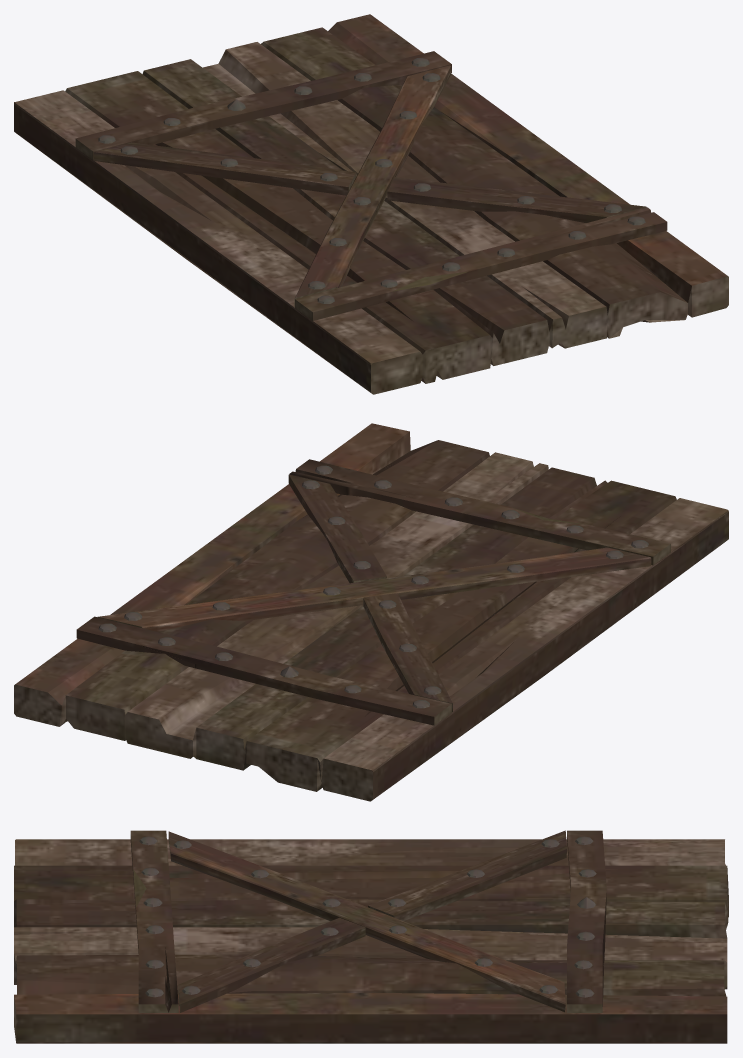
The model's file is VIK_SET_VickingDoor_01A_LOD0-transformed.glb.
3 views of the same model, one above another, from view 1: azimuth 30°, elevation 25°; view 2: azimuth 150°, elevation 25°; view 3: azimuth 270°, elevation 25° (orthographic).
Visible parts, largest first — view 1: VIK_SET_VickingDoor_01A_LOD0; view 2: VIK_SET_VickingDoor_01A_LOD0; view 3: VIK_SET_VickingDoor_01A_LOD0.
Boxes of the visible parts, x1,y1,x2,y2 form: VIK_SET_VickingDoor_01A_LOD0: [14, 14, 728, 394]; VIK_SET_VickingDoor_01A_LOD0: [14, 423, 728, 801]; VIK_SET_VickingDoor_01A_LOD0: [14, 830, 728, 1043].
Bounding box in the file's own units: 0.015 × 0.0021 × 0.0261.
2 materials, 2 textured.
